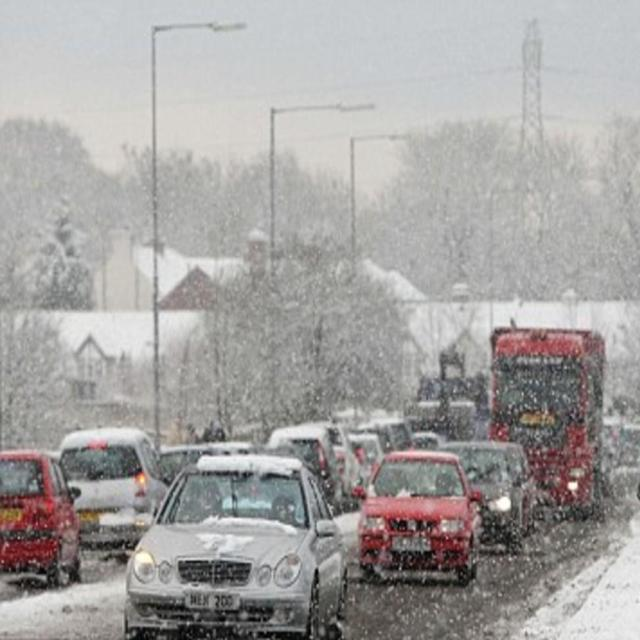Bus: (487, 315, 614, 494)
Car: (122, 453, 348, 640), (356, 452, 488, 576), (55, 427, 165, 542), (0, 447, 84, 588), (457, 443, 532, 532)
